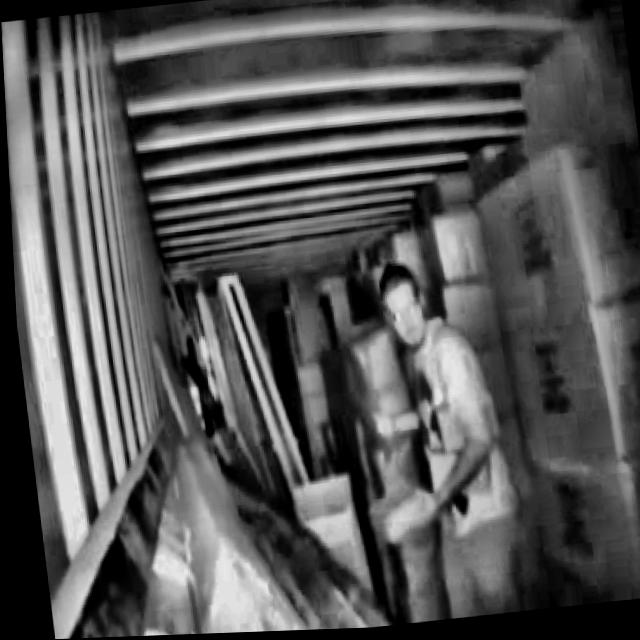burglary: (334, 251, 532, 629)
